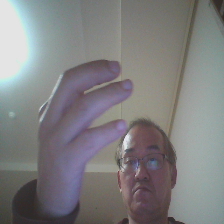hand: (33, 57, 134, 220)
